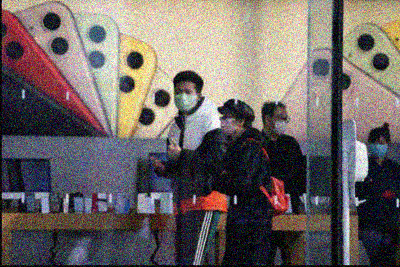with_mask: (173, 87, 195, 112), (270, 111, 288, 135), (369, 138, 387, 159), (218, 114, 236, 135)
